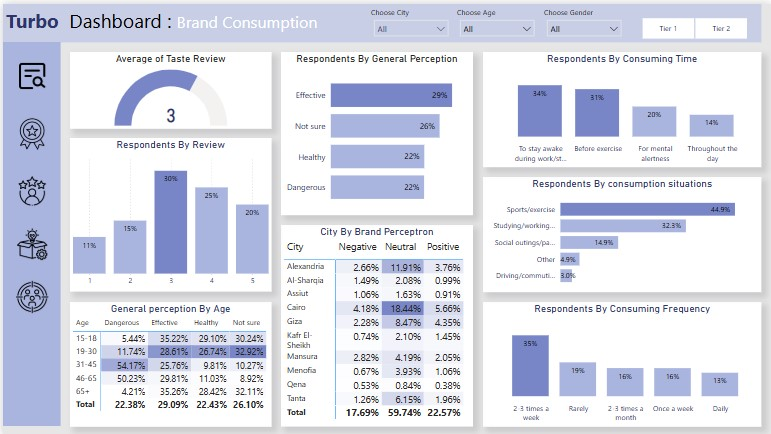

Layout of this report page (visuals, bound fields, positions):
{"tool":"powerbi","page":{"name":"Consumption","canvas":[1280,720],"ordinal":2},"visuals":[{"type":"pivotTable","title":"General perception By Age","fields":{"Values":["CountNonNull(fact_survey_responses.Response_ID)"],"Columns":["fact_survey_responses.General_perception"],"Rows":["dim_repondents.Age"]},"box":[112,496,336,208],"z":0},{"type":"columnChart","title":"Respondents By Consuming Frequency","fields":{"Category":["fact_survey_responses.Consume_frequency"],"Y":["CountNonNull(fact_survey_responses.Response_ID)"]},"box":[800,496,464,208],"z":1000},{"type":"barChart","title":"Respondents By consumption situations","fields":{"Category":["fact_survey_responses.Typical_consumption_situations"],"Y":["CountNonNull(fact_survey_responses.Response_ID)"]},"box":[800,288,464,192],"z":2000},{"type":"clusteredColumnChart","title":"Respondents By Consuming Time","fields":{"Category":["fact_survey_responses.Consume_time"],"Y":["CountNonNull(fact_survey_responses.Response_ID)"]},"box":[800,80,464,192],"z":3000},{"type":"textbox","box":[0,0,1264,64],"z":4000},{"type":"pivotTable","title":"City By Brand Perceptron","fields":{"Rows":["dim_cities.City"],"Values":["CountNonNull(fact_survey_responses.Response_ID)"],"Columns":["fact_survey_responses.Brand_perception"]},"box":[464,368,320,336],"z":5000},{"type":"slicer","title":"City","fields":{"Values":["dim_cities.City"]},"box":[608,16,144,48],"z":6000},{"type":"gauge","fields":{"Y":["Avg(fact_survey_responses.Taste_experience)"]},"box":[112,80,336,128],"z":7000},{"type":"slicer","title":"Age","fields":{"Values":["dim_repondents.Age"]},"box":[752,16,144,48],"z":8000},{"type":"slicer","title":"Gender","fields":{"Values":["dim_repondents.Gender"]},"box":[896,16,144,48],"z":9000},{"type":"slicer","fields":{"Values":["dim_cities.Tier"]},"box":[1040,16,224,48],"z":10000},{"type":"columnChart","title":"Respondents By Review","fields":{"Category":["fact_survey_responses.Taste_experience"],"Y":["CountNonNull(fact_survey_responses.Response_ID)"]},"box":[112,224,336,256],"z":11000},{"type":"barChart","title":"Respondents By General Perception","fields":{"Category":["fact_survey_responses.General_perception"],"Y":["CountNonNull(fact_survey_responses.Response_ID)"]},"box":[464,80,320,272],"z":12000},{"type":"shape","box":[0,64,96,640],"z":13000},{"type":"image","box":[16,80,64,80],"z":14000},{"type":"image","box":[16,176,64,80],"z":15000},{"type":"image","box":[16,272,64,80],"z":16000},{"type":"image","box":[16,368,64,64],"z":17000},{"type":"image","box":[16,448,64,80],"z":18000},{"type":"textbox","box":[752,0,112,32],"z":19000},{"type":"textbox","box":[608,0,112,32],"z":20000},{"type":"textbox","box":[896,0,112,32],"z":21000}]}

Visuals, with their boxes on the page's 1280x720 design canvas (x1, y1, x2, y2). These are canvas units, not pixel positions in the 771x434 screenshot, which may show the page scaled, cropped or inside an application window:
"General perception By Age" pivotTable: 112,496,448,704
"Respondents By Consuming Frequency" columnChart: 800,496,1264,704
"Respondents By consumption situations" barChart: 800,288,1264,480
"Respondents By Consuming Time" clusteredColumnChart: 800,80,1264,272
textbox: 0,0,1264,64
"City By Brand Perceptron" pivotTable: 464,368,784,704
"City" slicer: 608,16,752,64
gauge - Avg(fact_survey_responses.Taste_experience): 112,80,448,208
"Age" slicer: 752,16,896,64
"Gender" slicer: 896,16,1040,64
slicer - dim_cities.Tier: 1040,16,1264,64
"Respondents By Review" columnChart: 112,224,448,480
"Respondents By General Perception" barChart: 464,80,784,352
shape: 0,64,96,704
image: 16,80,80,160
image: 16,176,80,256
image: 16,272,80,352
image: 16,368,80,432
image: 16,448,80,528
textbox: 752,0,864,32
textbox: 608,0,720,32
textbox: 896,0,1008,32
